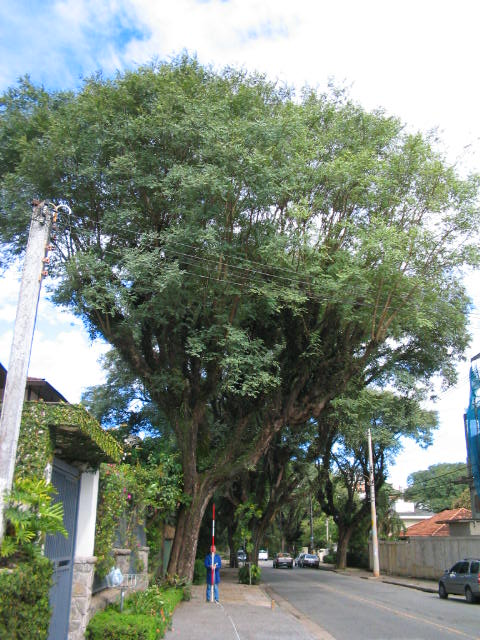crown: (5, 58, 475, 443)
stem: (159, 473, 208, 588)
stick: (204, 501, 219, 605)
tree: (2, 55, 478, 589)
